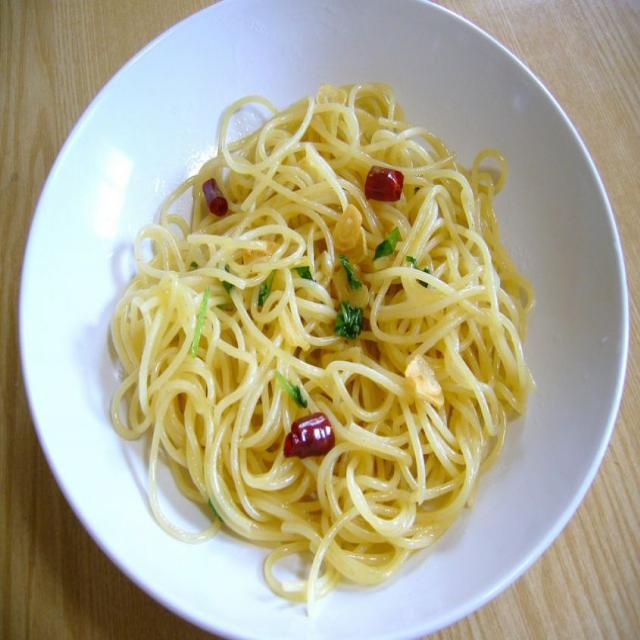Oil pasta: (56, 67, 574, 585)
